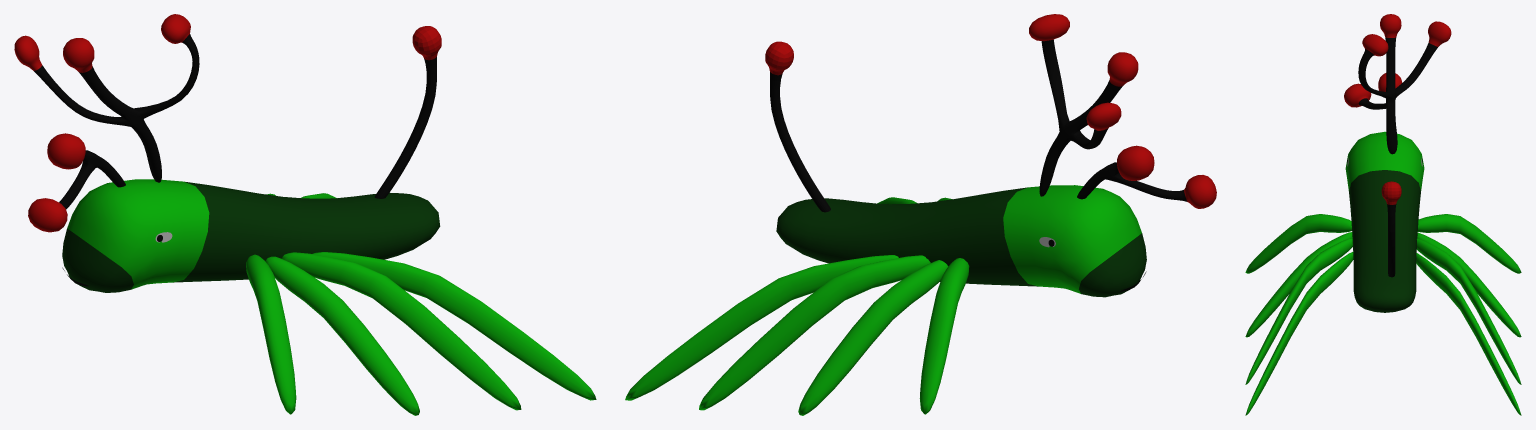
File: grasshopper-3.obj
The picture shows the model from 3 angles, left to right: view 1: azimuth 30°, elevation 25°; view 2: azimuth 150°, elevation 25°; view 3: azimuth 270°, elevation 25°; orthographic projection. The views are drawn at different scales.
Parts seen in each view (by area): view 1: Grasshopper_Cube.4117; view 2: Grasshopper_Cube.4117; view 3: Grasshopper_Cube.4117.
Part boxes in pixels (bbox=[...]): Grasshopper_Cube.4117: bbox=[14, 14, 596, 415]; Grasshopper_Cube.4117: bbox=[625, 14, 1216, 415]; Grasshopper_Cube.4117: bbox=[1245, 14, 1521, 415].
Bounding box in the file's own units: 2.01 × 1.57 × 1.45.
